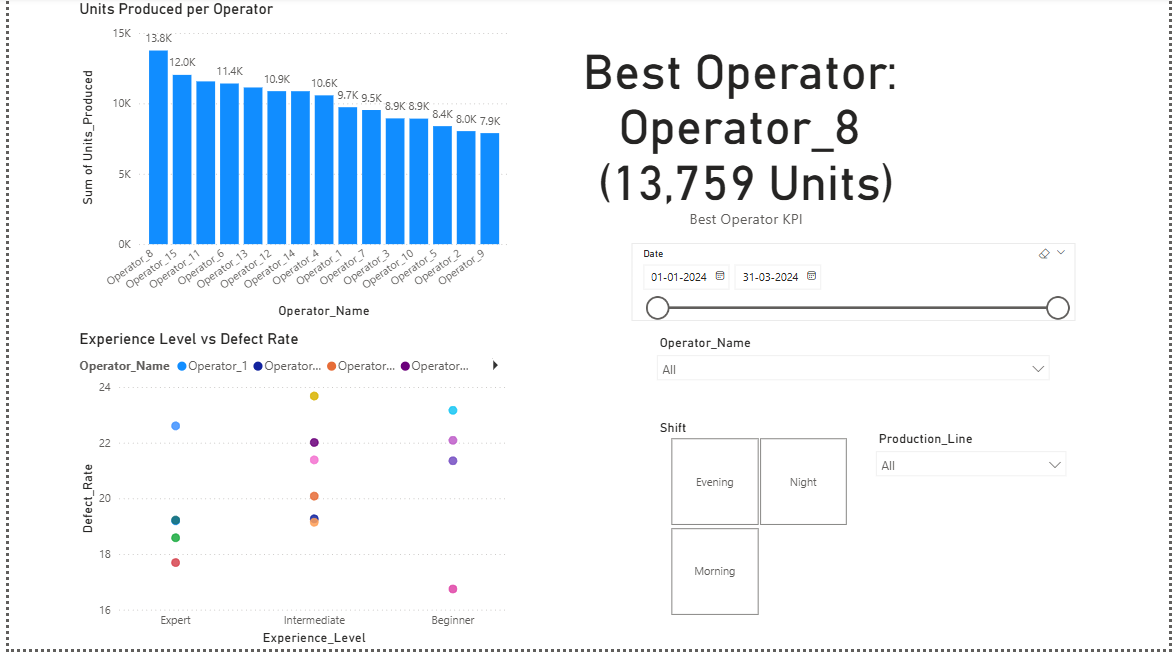

Layout of this report page (visuals, bound fields, positions):
{"tool":"powerbi","page":{"name":"Operator Performance","canvas":[1280,720],"ordinal":2},"visuals":[{"type":"columnChart","title":"Units Produced per Operator","fields":{"Category":["DIM_Operator.Operator_Name"],"Y":["Sum(FACT_Production.Units_Produced)"]},"box":[73.7,3.8,483.8,355.3],"z":0},{"type":"scatterChart","title":"Experience Level vs Defect Rate","fields":{"X":["DIM_Operator.Experience_Level"],"Y":["Measures (2).Defect_Rate"],"Series":["DIM_Operator.Operator_Name"]},"box":[73.7,368.5,483.8,351.5],"z":1000},{"type":"card","fields":{"Values":["Measures (2).Best Operator KPI"]},"box":[610.4,26.5,408.2,238.1],"z":2000},{"type":"slicer","fields":{"Values":["DIM_Date.Date"]},"box":[686.7,271.7,491.7,86.7],"z":3000},{"type":"slicer","fields":{"Values":["DIM_Operator.Operator_Name"]},"box":[705,368.3,453.3,93.3],"z":4000},{"type":"slicer","fields":{"Values":["FACT_Production.Shift"]},"box":[705,461.7,243.3,226.7],"z":4001},{"type":"slicer","fields":{"Values":["FACT_Production.Production_Line"]},"box":[948.3,473.3,230,83.3],"z":4002}]}

Visuals, with their boxes in screenshot pixels (x1, y1, x2, y2), scaled from the page's 1280x720 canvas onto the 1173x655 screenshot:
"Units Produced per Operator" columnChart: [left=68, top=3, right=511, bottom=327]
"Experience Level vs Defect Rate" scatterChart: [left=68, top=335, right=511, bottom=654]
card - Measures (2).Best Operator KPI: [left=559, top=24, right=933, bottom=241]
slicer - DIM_Date.Date: [left=629, top=247, right=1080, bottom=326]
slicer - DIM_Operator.Operator_Name: [left=646, top=335, right=1061, bottom=420]
slicer - FACT_Production.Shift: [left=646, top=420, right=869, bottom=626]
slicer - FACT_Production.Production_Line: [left=869, top=431, right=1080, bottom=506]
